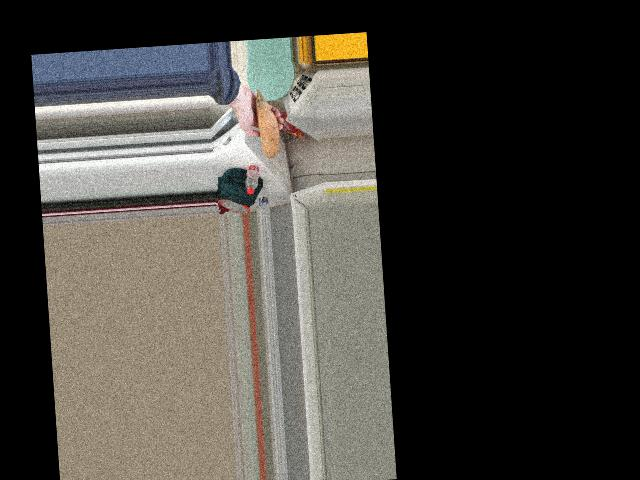sweet_potato: (255, 97, 282, 157)
